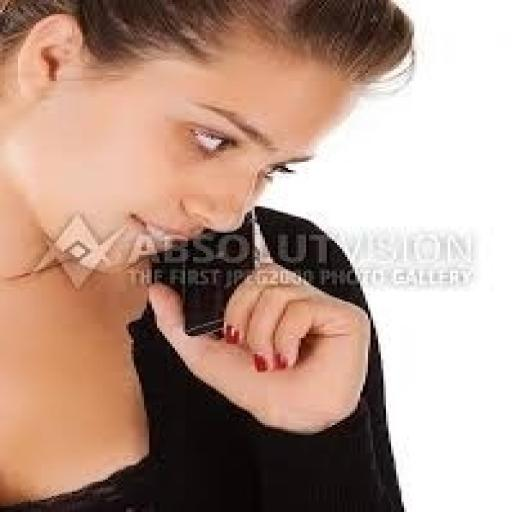calling: (0, 0, 419, 510)
